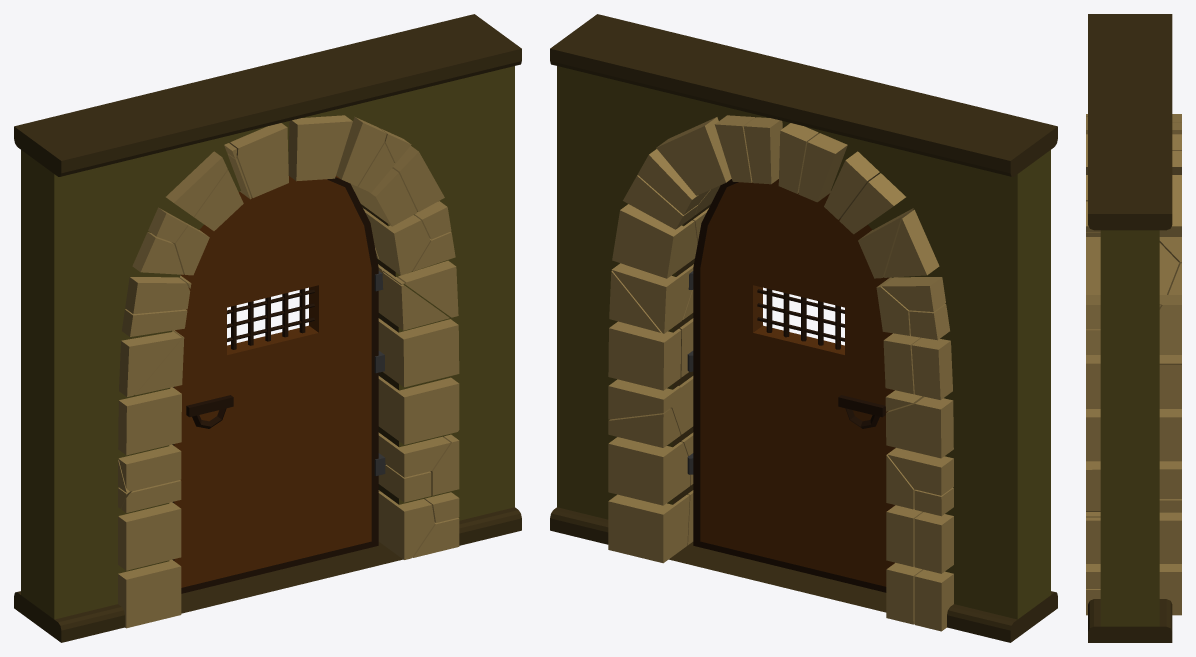
File: WallDoor.fbx
3 renders of one model, left to right at view 1: azimuth 30°, elevation 25°; view 2: azimuth 150°, elevation 25°; view 3: azimuth 270°, elevation 25°, orthographic. The views are drawn at different scales.
Visible parts, largest first — view 1: Wall, Door, RockArc; view 2: Wall, RockArc, Door; view 3: Wall, RockArc.
Part boxes in pixels (box(x1,y1,x2,y2)): Wall: box(14, 14, 521, 642); Door: box(172, 176, 378, 593); RockArc: box(118, 115, 459, 628); Wall: box(550, 14, 1057, 642); RockArc: box(608, 115, 953, 631); Door: box(693, 179, 895, 592); Wall: box(1088, 14, 1172, 642); RockArc: box(1086, 114, 1181, 615).
Size of the model in its own units: 400 by 400 by 81.12.
